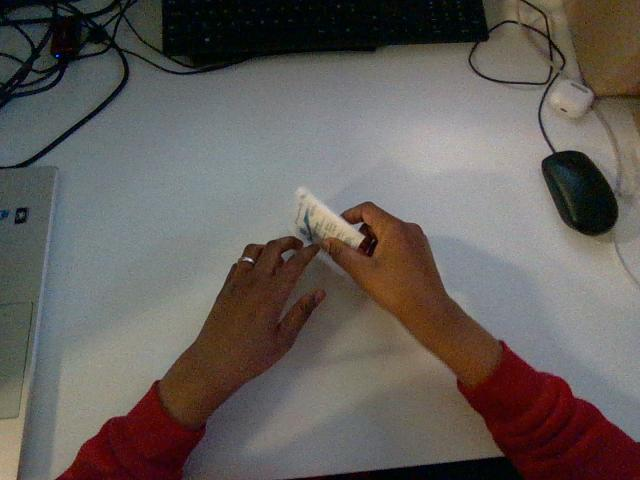gauze: (294, 188, 364, 249)
